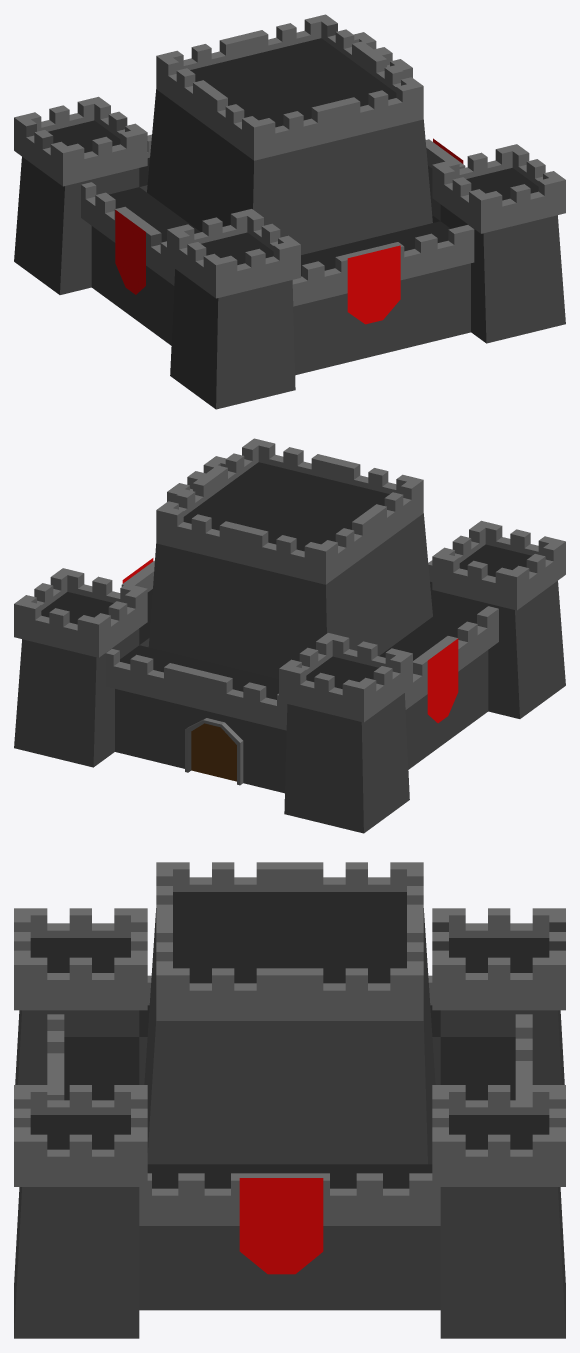
The model's file is NonCastle.gltf.
3 views of the same model, one above another, from view 1: azimuth 30°, elevation 25°; view 2: azimuth 150°, elevation 25°; view 3: azimuth 270°, elevation 25° (orthographic). The views are drawn at different scales.
Parts seen in each view (by area): view 1: Tower4; view 2: Tower4; view 3: Tower4.
Part boxes in pixels (box(x1,y1,x2,y2)): Tower4: box(14, 14, 565, 409); Tower4: box(14, 438, 565, 833); Tower4: box(14, 862, 565, 1338).
Bounding box in the file's own units: 4.12 × 2.5 × 4.12.
1 material, 1 textured.
